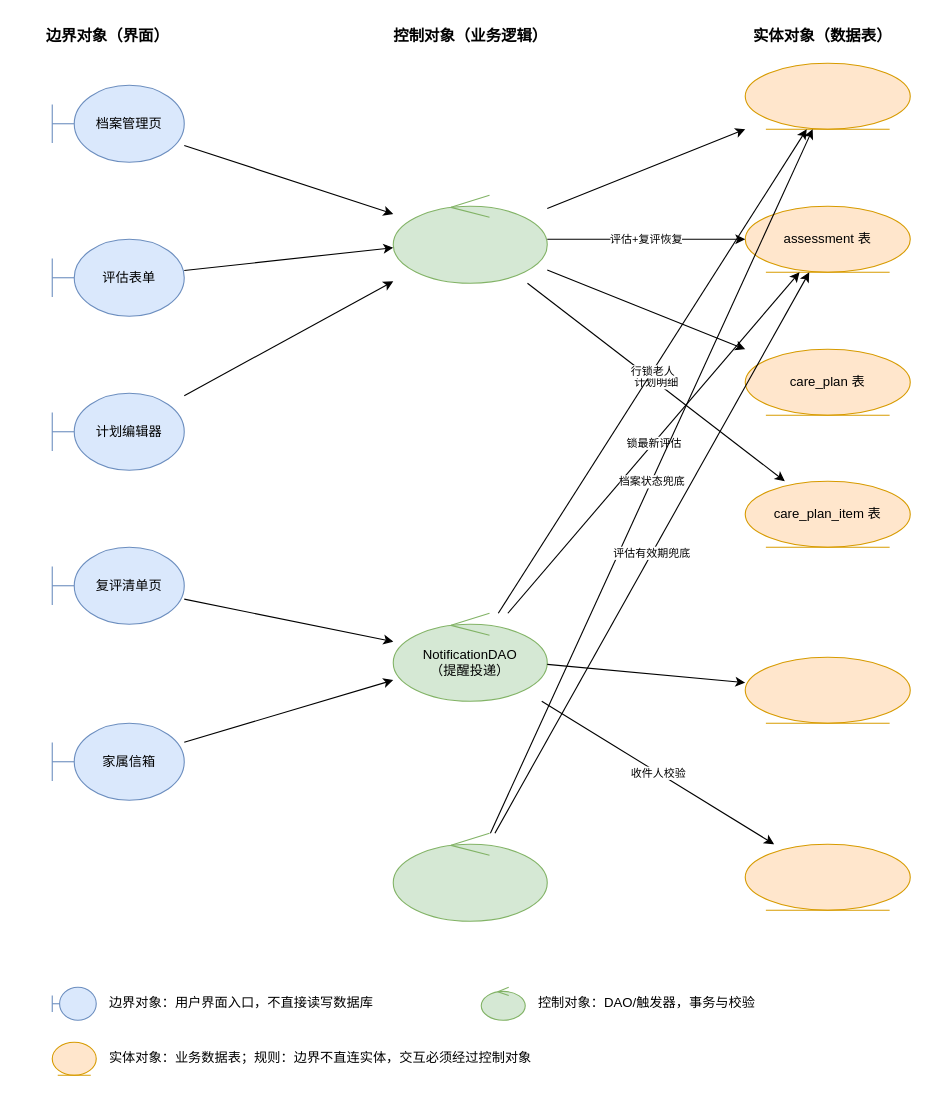
The diagram is 939 pixels wide and 1095 high, and some of its shapes have lost their labels. Each missing label, with the centre of its shape:
elder 表: point 827,95
ElderDAO （档案/评估/计划事务）: point 469,238
family_notification 表: point 827,689
sys_user 表: point 827,876
tr_dispatch_before_insert （派单触发器）: point 469,876
